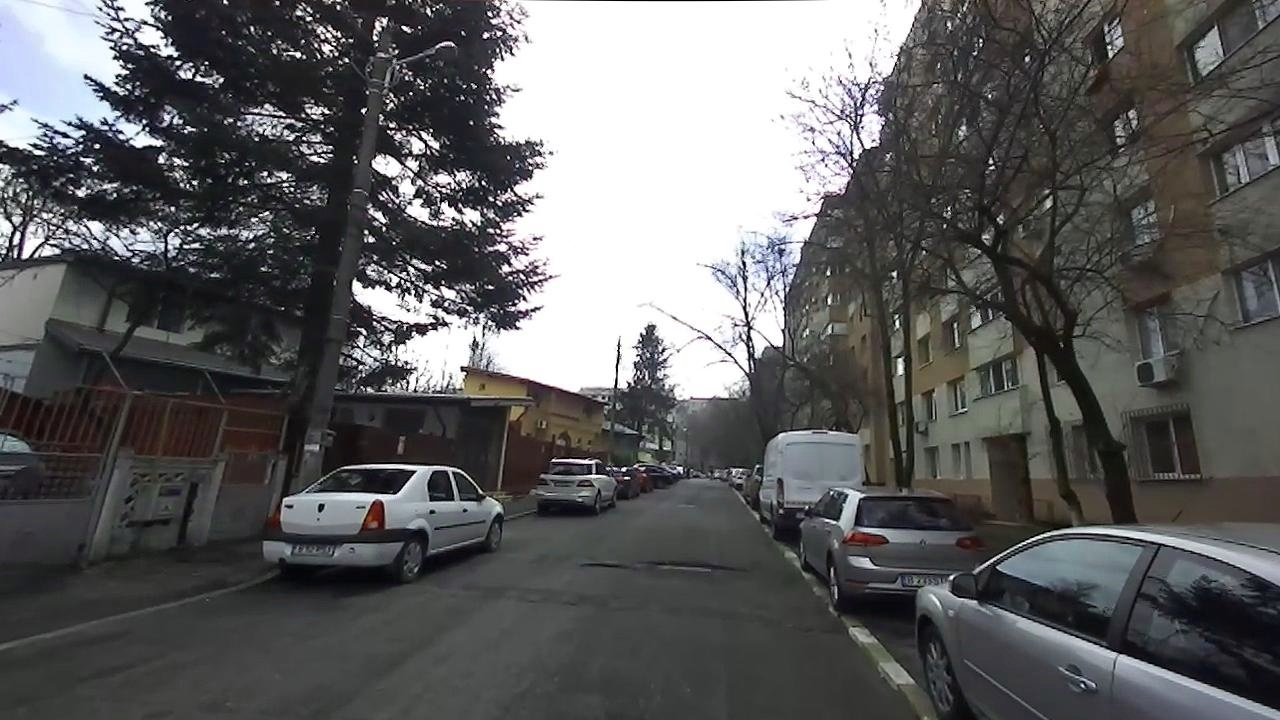pothole: (652, 559, 743, 573), (581, 561, 628, 570)
